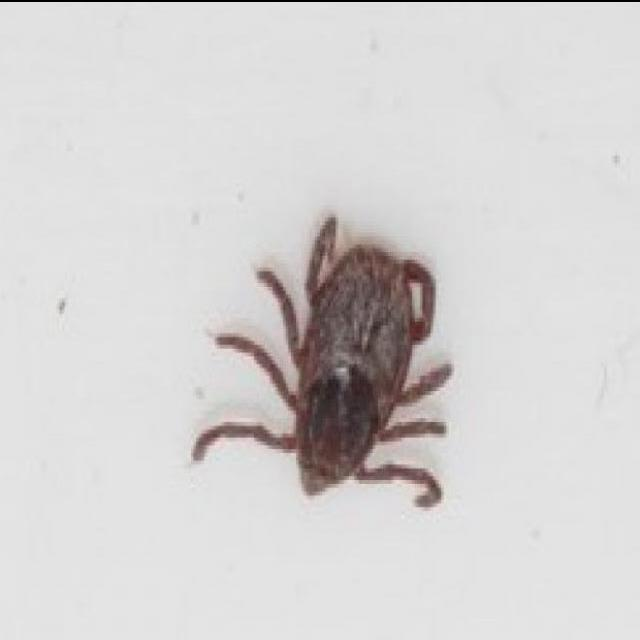Rhipicephalus Sanguineus-F: (188, 208, 454, 505)
